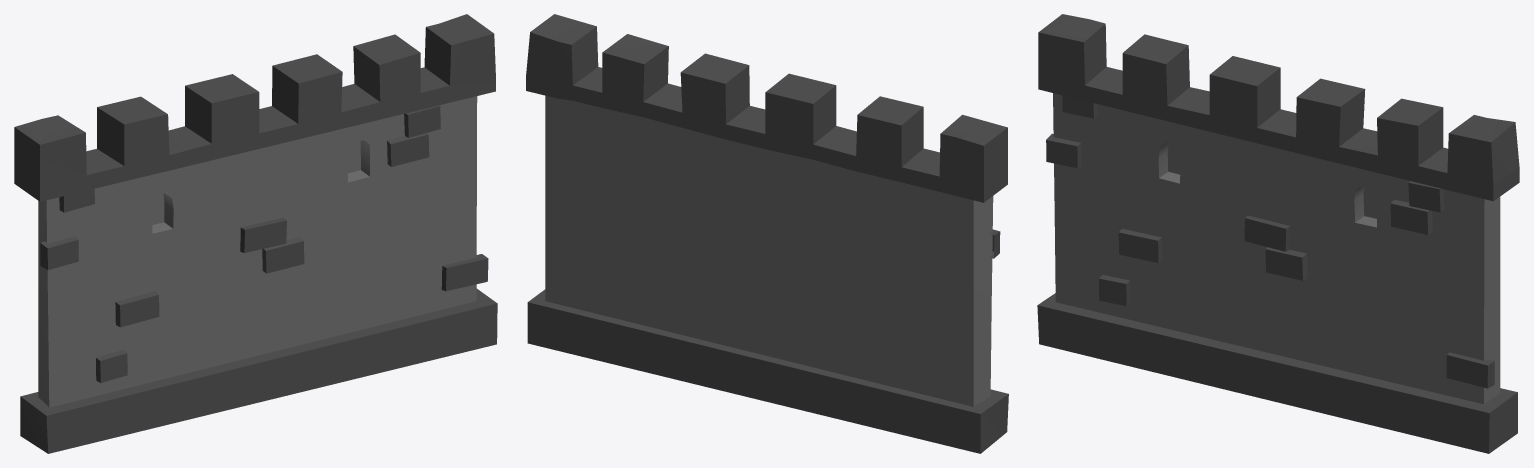
Rendered from Ruins_Wall_02.fbx.
The picture shows the model from 3 angles, left to right: view 1: azimuth 30°, elevation 25°; view 2: azimuth 150°, elevation 25°; view 3: azimuth 330°, elevation 25°; orthographic projection.
Parts seen in each view (by area): view 1: Ruins_Wall_02; view 2: Ruins_Wall_02; view 3: Ruins_Wall_02.
Part boxes in pixels (left/top/right/bottom): Ruins_Wall_02: left=14, top=14, right=497, bottom=453; Ruins_Wall_02: left=526, top=14, right=1008, bottom=453; Ruins_Wall_02: left=1037, top=14, right=1519, bottom=453.
Size of the model in its own units: 705 by 460 by 76.55.
